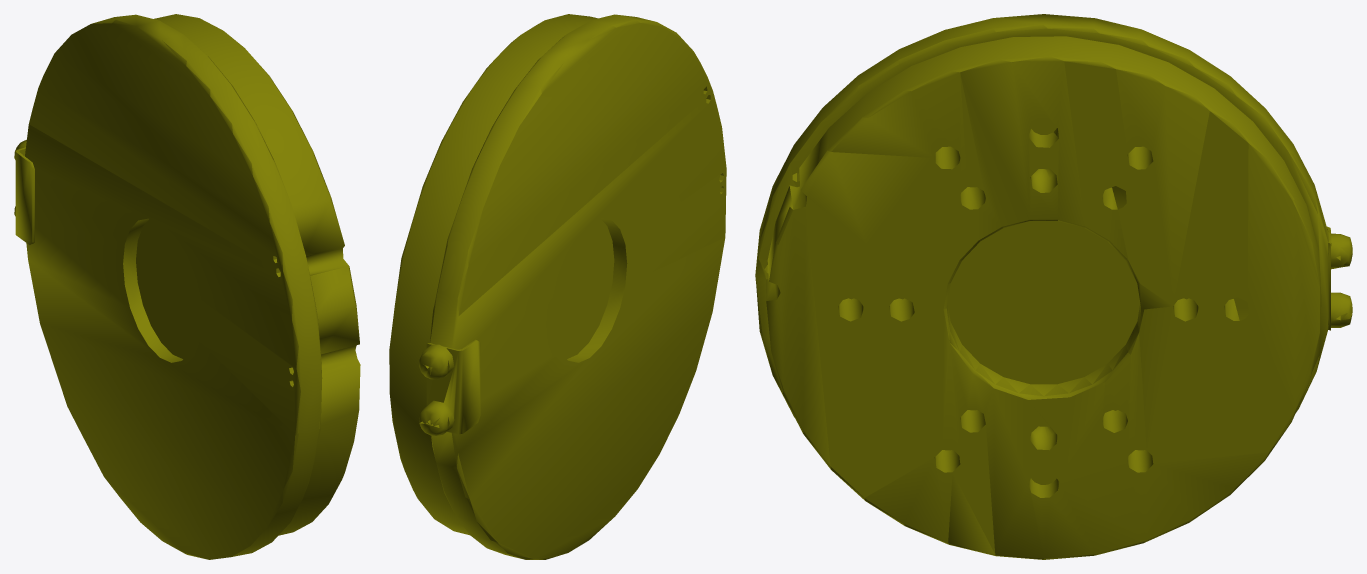
3 views of the same model, side by side, from view 1: azimuth 30°, elevation 25°; view 2: azimuth 150°, elevation 25°; view 3: azimuth 270°, elevation 25° (orthographic). The views are drawn at different scales.
Parts seen in each view (by area): view 1: link_6_t; view 2: link_6_t; view 3: link_6_t.
Part boxes in pixels (bbox=[...]): link_6_t: bbox=[14, 14, 360, 559]; link_6_t: bbox=[389, 14, 726, 559]; link_6_t: bbox=[755, 14, 1352, 559].
Bounding box in the file's own units: 0.0306 × 0.1935 × 0.187.
